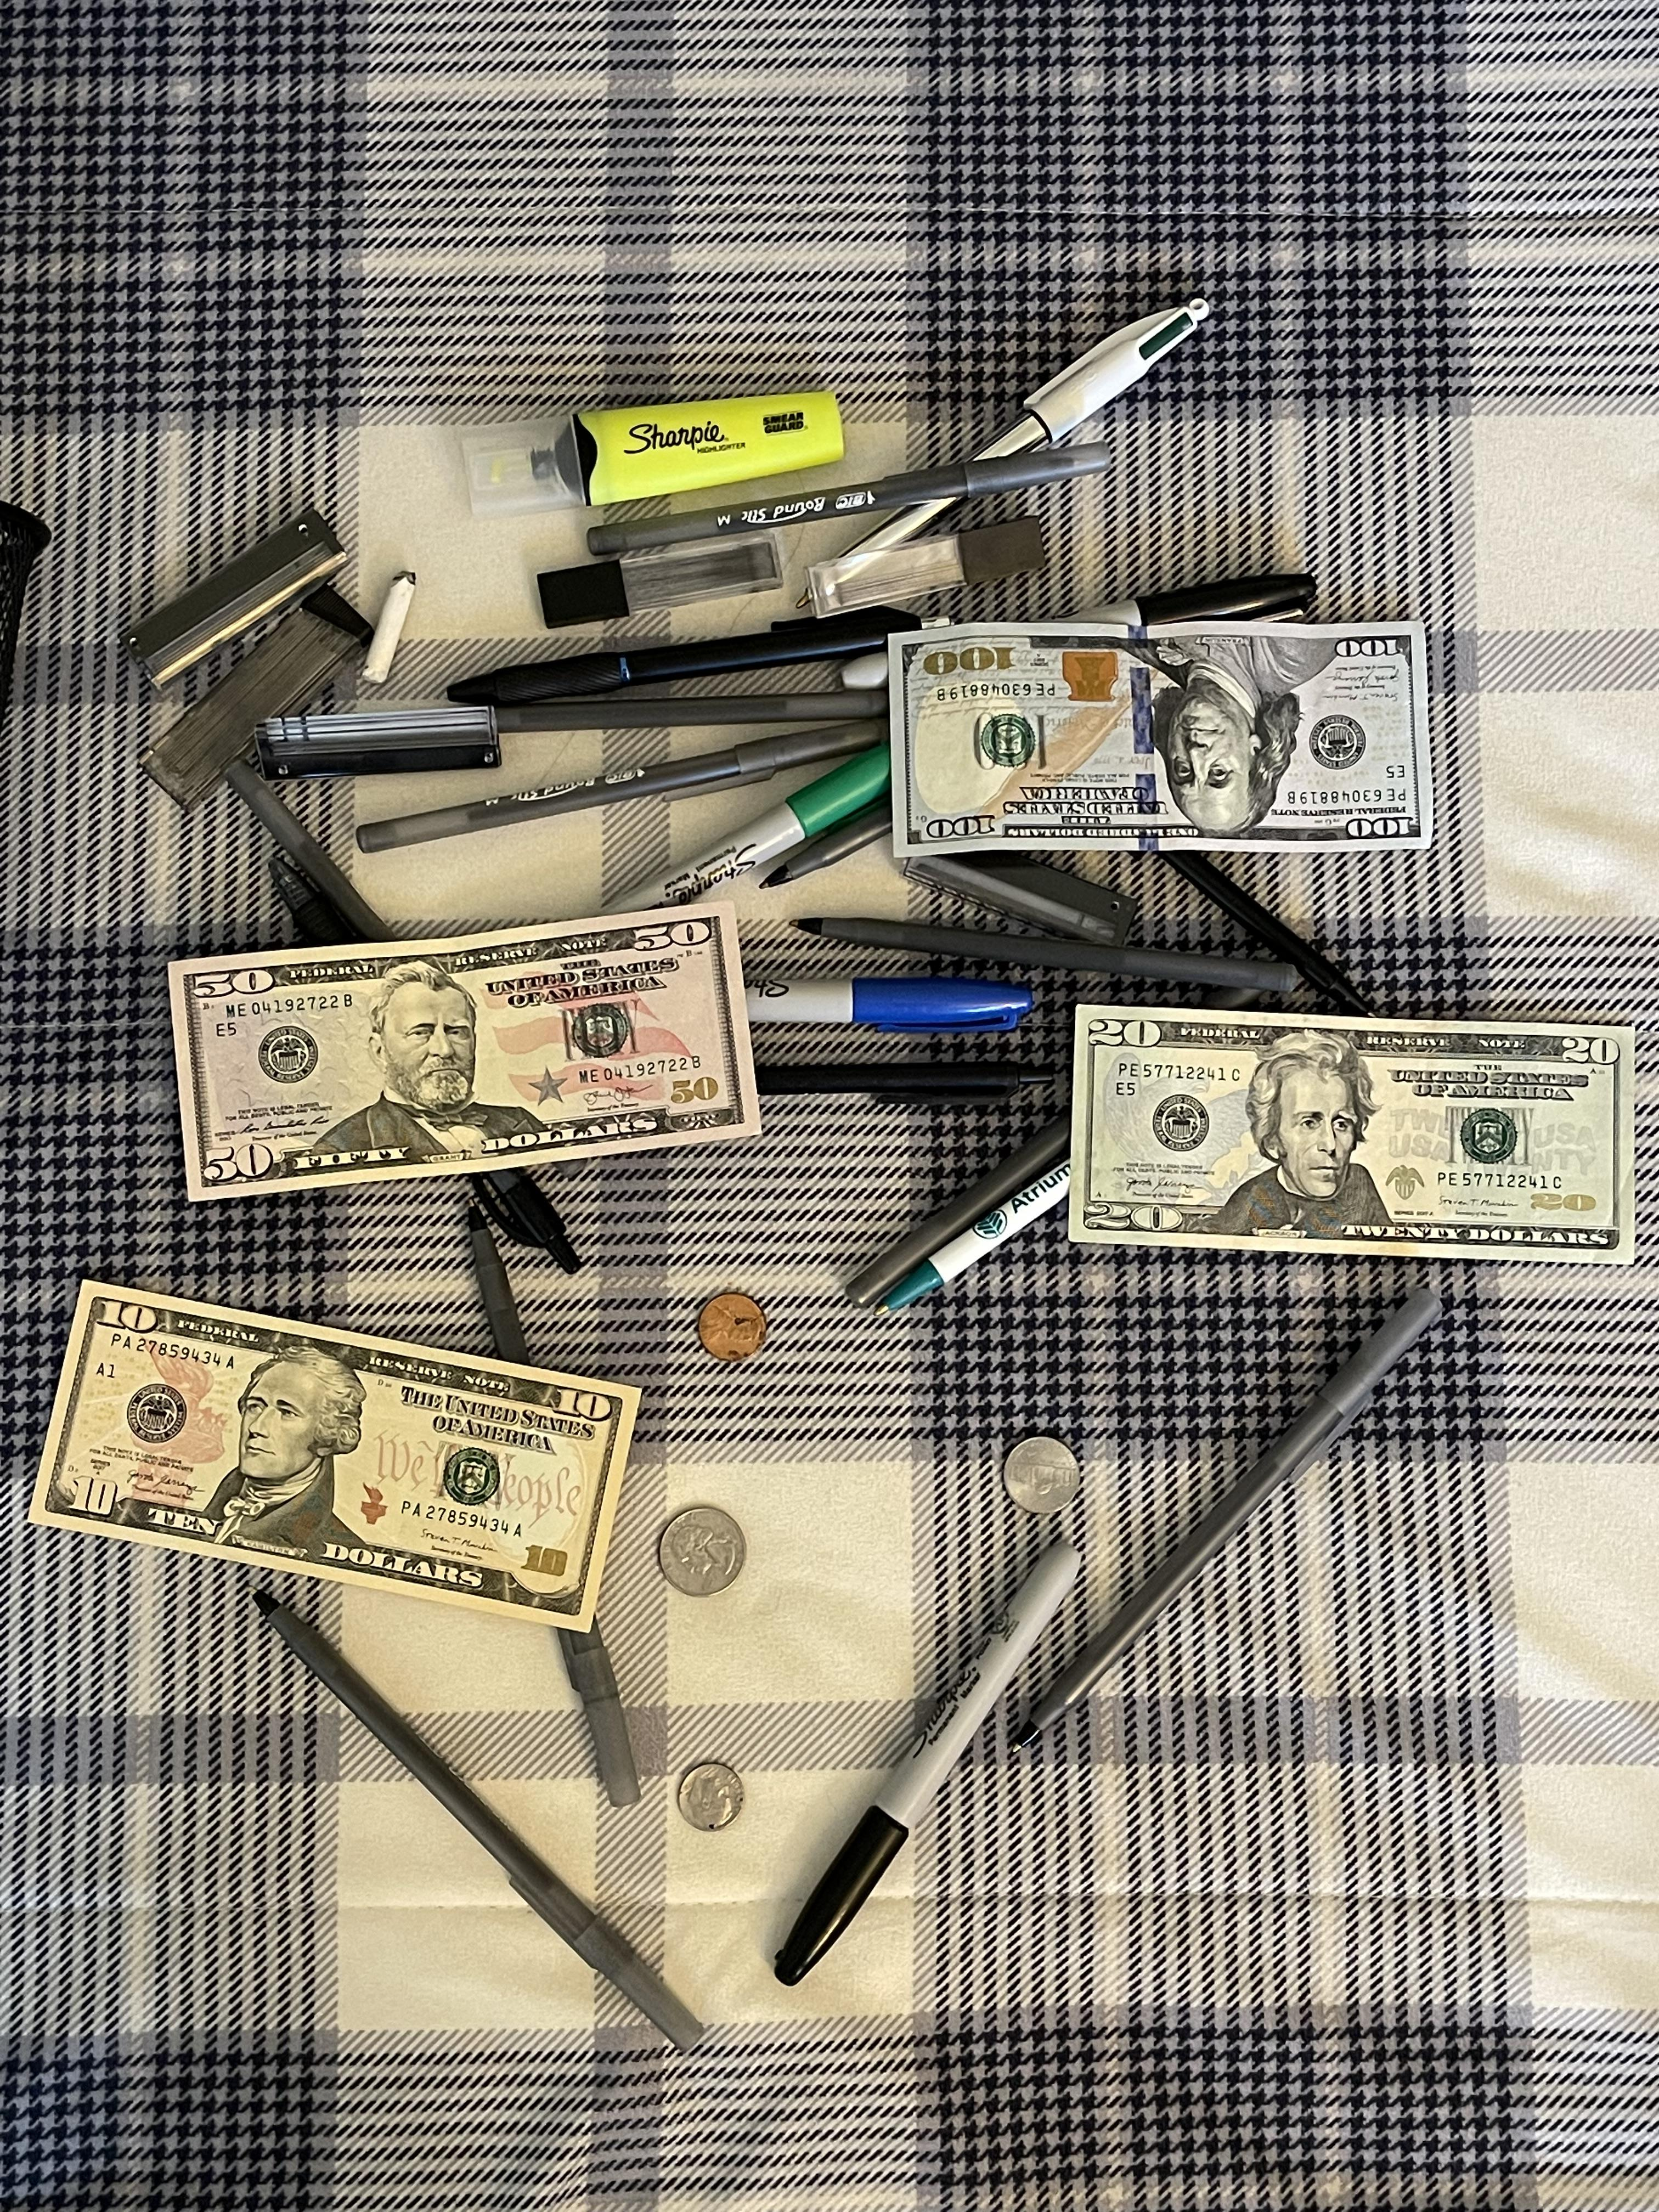Dime: (678, 1763, 746, 1832)
FiftyBill: (166, 899, 765, 1204)
HundredBill: (885, 620, 1434, 859)
Nickel: (1002, 1435, 1080, 1515)
Penny: (697, 1292, 765, 1364)
Quarter: (659, 1507, 746, 1599)
TenBill: (26, 1271, 643, 1629)
TwentyBill: (1065, 1001, 1636, 1266)
